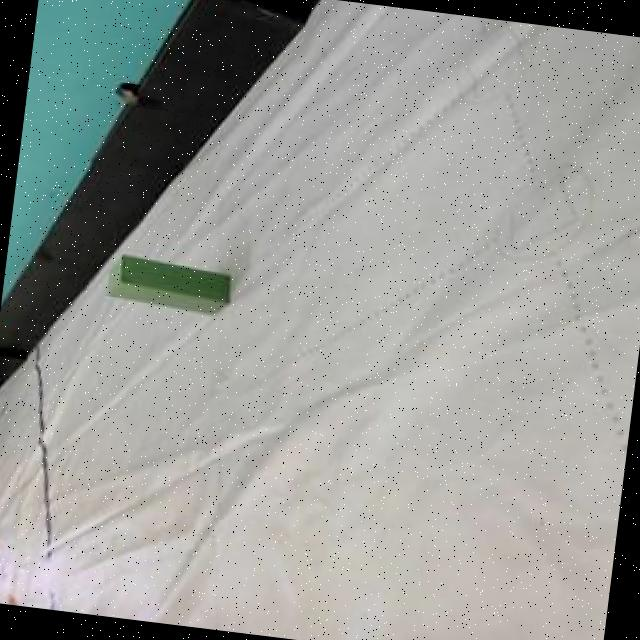greenbox: (103, 251, 232, 316)
